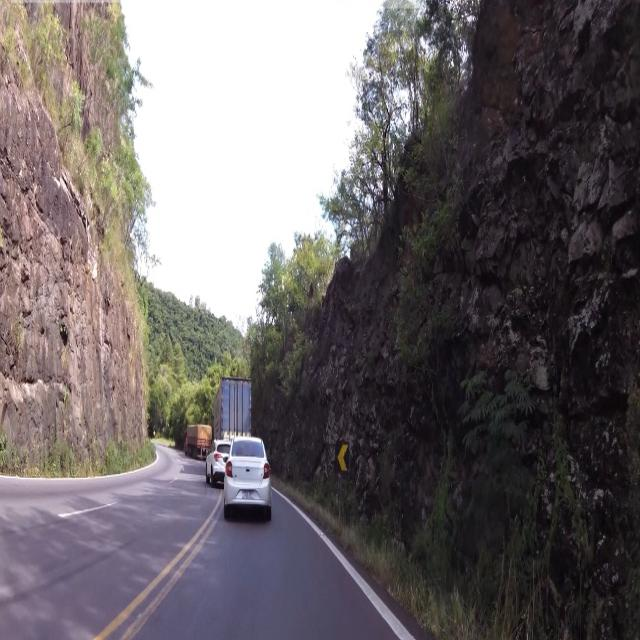Del: (335, 434, 352, 476)
